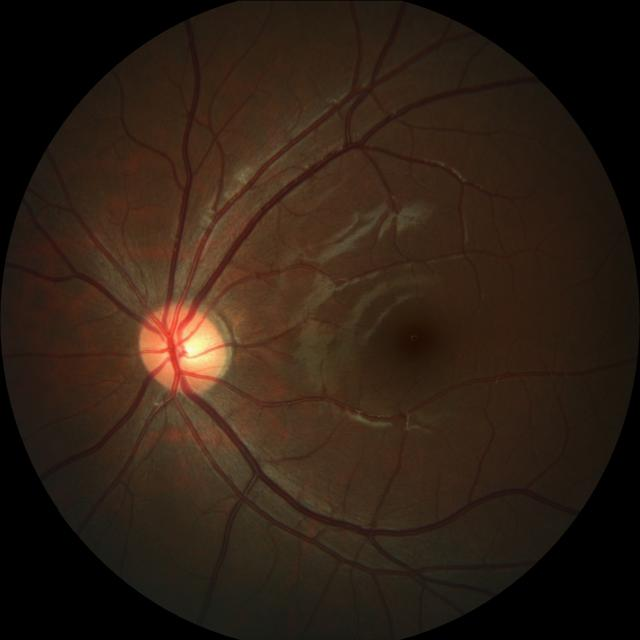OC: (169, 326, 214, 367)
OD: (139, 301, 228, 394)
